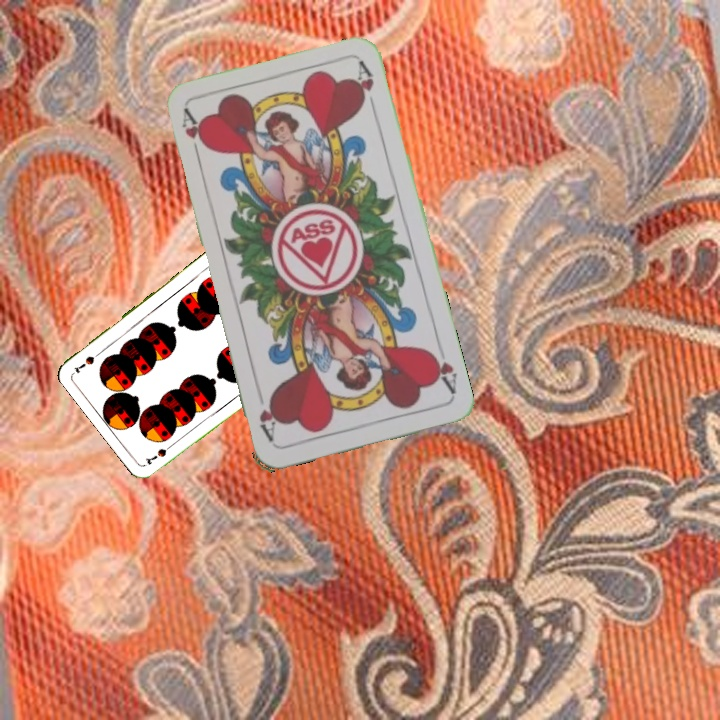HA: (425, 346, 460, 397), (177, 106, 207, 164)
S7: (142, 439, 178, 467)
